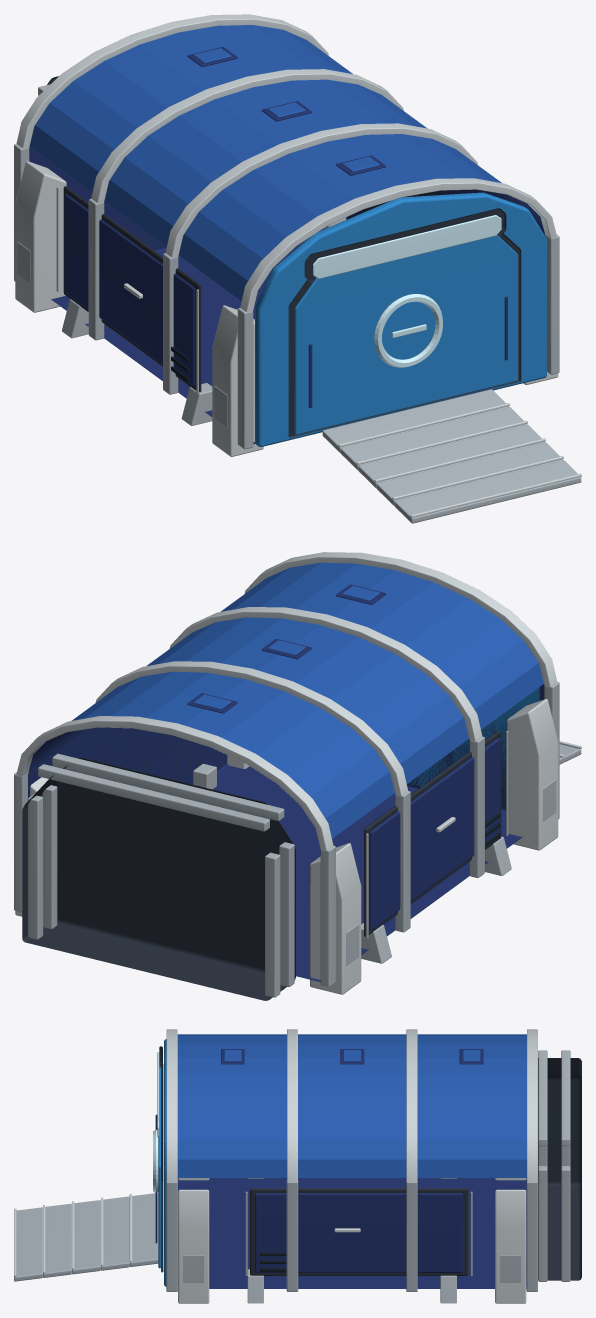
Rendered from WaterTank.fbx.
3 renders of one model, top to bottom at view 1: azimuth 30°, elevation 25°; view 2: azimuth 150°, elevation 25°; view 3: azimuth 270°, elevation 25°, orthographic. The views are drawn at different scales.
Visible parts, largest first — view 1: Front_Door, Blue_Roof_Segment_1, Blue_Roof_Segment_3, Blue_Roof_Segment_2, Front_Blue_End_Cap, Side_Access_Panel, Main_Pressurized_Hull, End_Angular_Buttress.001, Silver_Roof_Rib_1, Silver_Roof_Rib_3, Silver_Roof_Rib_4, Silver_Roof_Rib_2 (+23 smaller); view 2: Rear_Utility_Housing, Blue_Roof_Segment_3, Blue_Roof_Segment_1, Blue_Roof_Segment_2, Main_Pressurized_Hull, Side_Access_Panel, End_Angular_Buttress, Silver_Roof_Rib_4, End_Angular_Buttress.001, Silver_Roof_Rib_3, Silver_Roof_Rib_1, Silver_Roof_Rib_2 (+15 smaller); view 3: Blue_Roof_Segment_1, Blue_Roof_Segment_3, Blue_Roof_Segment_2, Side_Access_Panel.001, Main_Pressurized_Hull, Rear_Utility_Housing, End_Angular_Buttress.002, End_Angular_Buttress.003, Side_Panel_Recess.001, Entrance_Ramp_Panel_3, Entrance_Ramp_Panel_2, Entrance_Ramp_Panel_4 (+22 smaller).
Boxes of the visible parts, left/top/right/bottom form: Front_Door: left=294, top=235, right=518, bottom=434; Blue_Roof_Segment_1: left=179, top=134, right=544, bottom=300; Blue_Roof_Segment_3: left=30, top=25, right=352, bottom=191; Blue_Roof_Segment_2: left=104, top=79, right=427, bottom=246; Front_Blue_End_Cap: left=255, top=192, right=546, bottom=446; Side_Access_Panel: left=64, top=194, right=195, bottom=385; Main_Pressurized_Hull: left=29, top=146, right=544, bottom=444; End_Angular_Buttress.001: left=15, top=161, right=66, bottom=312; Silver_Roof_Rib_1: left=240, top=178, right=557, bottom=312; Silver_Roof_Rib_3: left=91, top=69, right=403, bottom=203; Silver_Roof_Rib_4: left=16, top=14, right=328, bottom=148; Silver_Roof_Rib_2: left=165, top=123, right=477, bottom=257; Rear_Utility_Housing: left=22, top=757, right=295, bottom=1000; Blue_Roof_Segment_3: left=29, top=671, right=394, bottom=838; Blue_Roof_Segment_1: left=220, top=562, right=543, bottom=729; Blue_Roof_Segment_2: left=147, top=617, right=468, bottom=783; Main_Pressurized_Hull: left=28, top=684, right=544, bottom=981; Side_Access_Panel: left=369, top=738, right=500, bottom=929; End_Angular_Buttress: left=507, top=699, right=558, bottom=850; Silver_Roof_Rib_4: left=16, top=716, right=333, bottom=850; End_Angular_Buttress.001: left=310, top=843, right=361, bottom=994; Silver_Roof_Rib_3: left=95, top=661, right=408, bottom=795; Silver_Roof_Rib_1: left=244, top=552, right=556, bottom=686; Silver_Roof_Rib_2: left=169, top=607, right=482, bottom=741; Blue_Roof_Segment_1: left=177, top=1034, right=286, bottom=1177; Blue_Roof_Segment_3: left=417, top=1034, right=526, bottom=1177; Blue_Roof_Segment_2: left=298, top=1034, right=406, bottom=1177; Side_Access_Panel.001: left=255, top=1193, right=463, bottom=1272; Main_Pressurized_Hull: left=177, top=1178, right=526, bottom=1288; Rear_Utility_Housing: left=538, top=1058, right=581, bottom=1280; End_Angular_Buttress.002: left=178, top=1189, right=209, bottom=1303; End_Angular_Buttress.003: left=495, top=1189, right=526, bottom=1303; Side_Panel_Recess.001: left=250, top=1188, right=468, bottom=1275; Entrance_Ramp_Panel_3: left=72, top=1200, right=100, bottom=1274; Entrance_Ramp_Panel_2: left=101, top=1196, right=129, bottom=1270; Entrance_Ramp_Panel_4: left=43, top=1203, right=71, bottom=1277.
Bounding box in the file's own units: 666 × 471 × 1236.
